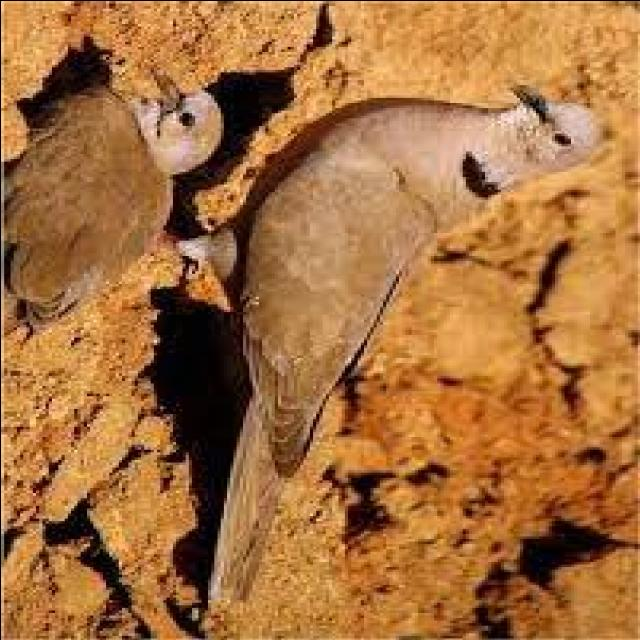pigeon: (200, 0, 640, 602)
